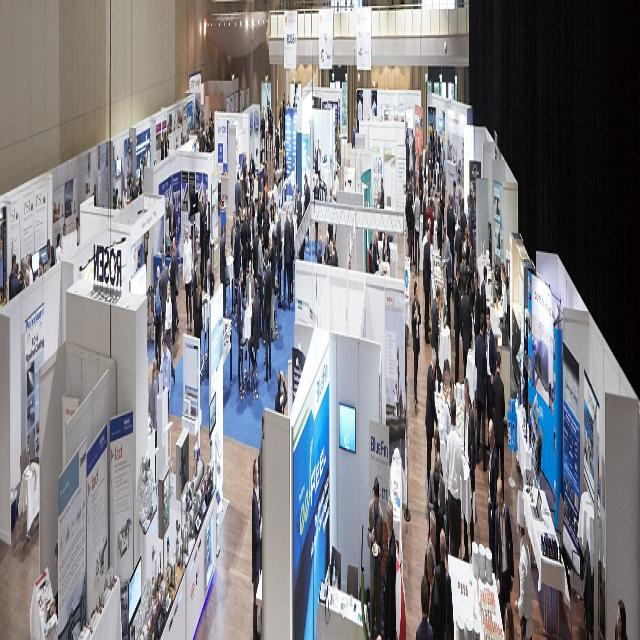body: (8, 192, 81, 303), (494, 474, 514, 638), (461, 375, 477, 571), (445, 398, 464, 560), (366, 474, 384, 638), (236, 143, 258, 274), (91, 161, 139, 221), (514, 486, 532, 639), (474, 311, 488, 474), (250, 454, 262, 639), (434, 525, 453, 640), (443, 375, 455, 556), (424, 346, 438, 498), (492, 350, 505, 504), (422, 192, 435, 332), (428, 466, 446, 567), (485, 304, 497, 452), (460, 216, 474, 342), (158, 334, 172, 458), (384, 494, 396, 638), (488, 418, 498, 580), (423, 508, 437, 618), (459, 274, 473, 382), (427, 451, 445, 530), (426, 539, 440, 640), (411, 279, 421, 416), (148, 355, 158, 491), (430, 282, 441, 401), (236, 265, 246, 395), (248, 274, 260, 381), (424, 122, 442, 193), (415, 573, 434, 640), (263, 247, 272, 382), (422, 225, 432, 346), (182, 225, 193, 334), (441, 222, 452, 330), (405, 163, 416, 271), (164, 282, 175, 387), (453, 259, 461, 392), (198, 192, 208, 297), (258, 411, 264, 579), (193, 108, 214, 156), (282, 205, 291, 312), (257, 222, 265, 342), (447, 195, 456, 300), (268, 228, 276, 343), (154, 262, 162, 375), (467, 232, 475, 342), (160, 248, 169, 342), (497, 261, 508, 332), (219, 224, 227, 320), (413, 183, 421, 279), (194, 270, 203, 355), (169, 241, 176, 347), (269, 166, 279, 238), (233, 215, 240, 317), (479, 264, 488, 342), (172, 234, 179, 330), (230, 209, 236, 320), (472, 266, 481, 340), (274, 369, 288, 416), (614, 594, 628, 640), (192, 250, 199, 340), (276, 207, 282, 311), (203, 256, 216, 302), (203, 186, 210, 271), (244, 258, 255, 310), (434, 426, 444, 482), (346, 248, 352, 340), (437, 286, 448, 336), (438, 163, 446, 230), (435, 197, 443, 262), (326, 184, 334, 247), (304, 174, 310, 251), (503, 600, 514, 640), (314, 174, 319, 258), (298, 201, 305, 261), (234, 169, 242, 220), (410, 127, 416, 195), (418, 153, 424, 220), (139, 155, 146, 212), (290, 204, 294, 303), (372, 228, 380, 276), (404, 131, 410, 194), (382, 227, 391, 265), (256, 188, 263, 236), (164, 128, 170, 183), (143, 228, 149, 282), (316, 137, 321, 201), (303, 172, 308, 236), (282, 143, 287, 206), (459, 197, 466, 242), (169, 201, 176, 244), (451, 178, 456, 238), (422, 183, 427, 242), (446, 192, 452, 241), (456, 186, 463, 228), (418, 143, 423, 201), (322, 229, 330, 265), (296, 184, 302, 232), (459, 248, 465, 296), (269, 107, 274, 163), (264, 111, 269, 165), (424, 152, 430, 196), (263, 157, 268, 206), (332, 235, 339, 268), (275, 125, 280, 171), (268, 97, 272, 154), (327, 239, 335, 267), (467, 192, 472, 236), (260, 177, 266, 213), (260, 110, 266, 146), (279, 99, 283, 151), (369, 240, 375, 274), (317, 235, 323, 265), (334, 168, 339, 204), (264, 174, 270, 202), (293, 183, 298, 216), (352, 118, 356, 152), (380, 174, 384, 208), (145, 142, 150, 168), (160, 131, 164, 162), (405, 120, 409, 146), (282, 92, 286, 115), (261, 104, 265, 122), (314, 144, 316, 174), (292, 95, 296, 106), (287, 92, 290, 106), (288, 99, 290, 105)
